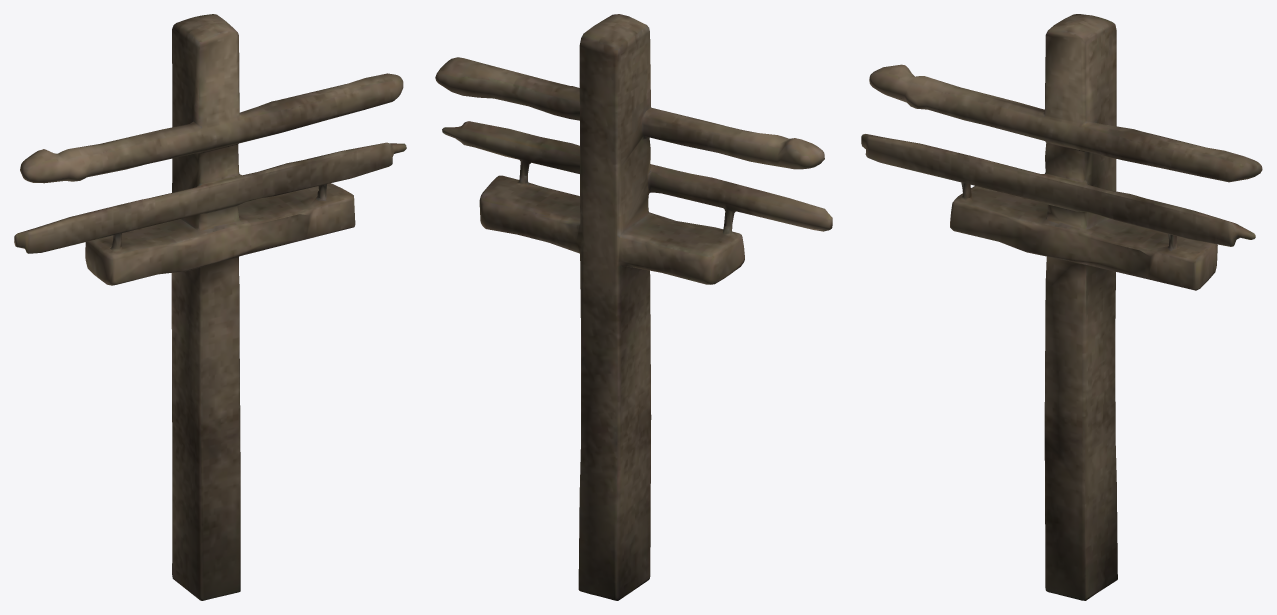
File: ancient-wood-signpost-v001.glb
The picture shows the model from 3 angles, left to right: view 1: azimuth 30°, elevation 25°; view 2: azimuth 150°, elevation 25°; view 3: azimuth 330°, elevation 25°; orthographic projection.
Visible parts, largest first — view 1: ancient-wood-signpost; view 2: ancient-wood-signpost; view 3: ancient-wood-signpost.
Boxes of the visible parts, box(x1,y1,x2,y2) form: ancient-wood-signpost: box(14, 14, 406, 600); ancient-wood-signpost: box(435, 14, 832, 600); ancient-wood-signpost: box(861, 14, 1262, 600).
Size of the model in its own units: 1.49 by 2.05 by 0.2517.
1 material, 1 textured.
